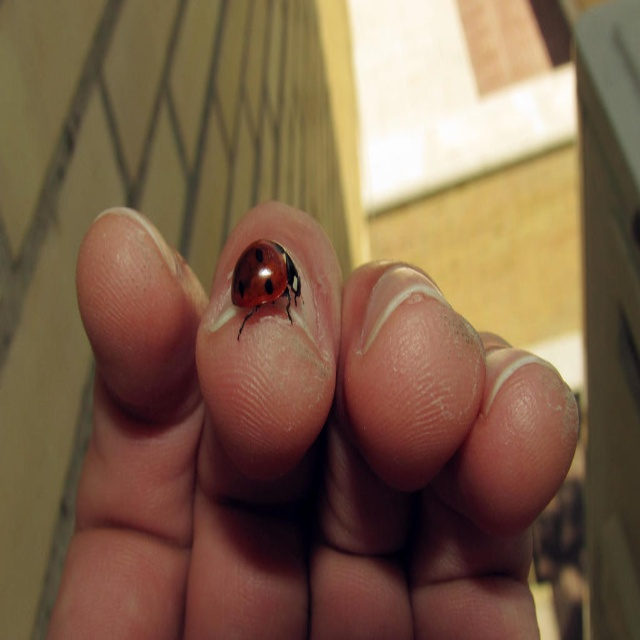Ladybug: (230, 237, 303, 343)
